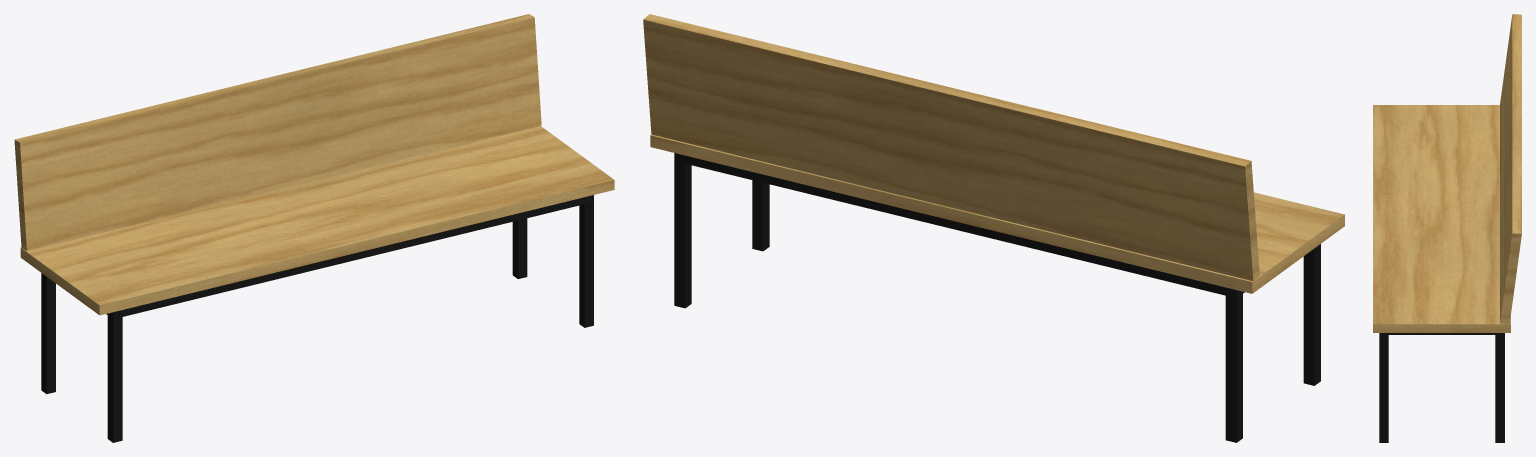
The model's file is SM_CadeiraCubiculo.fbx.
The picture shows the model from 3 angles, left to right: view 1: azimuth 30°, elevation 25°; view 2: azimuth 150°, elevation 25°; view 3: azimuth 270°, elevation 25°; orthographic projection. The views are drawn at different scales.
Parts seen in each view (by area): view 1: SM_CadeiraCubiculo; view 2: SM_CadeiraCubiculo; view 3: SM_CadeiraCubiculo.
Boxes of the visible parts, x1,y1,x2,y2 form: SM_CadeiraCubiculo: (14,14,614,442); SM_CadeiraCubiculo: (643,14,1344,442); SM_CadeiraCubiculo: (1373,14,1521,442).
Bounding box in the file's own units: 137 × 63.25 × 39.36.
